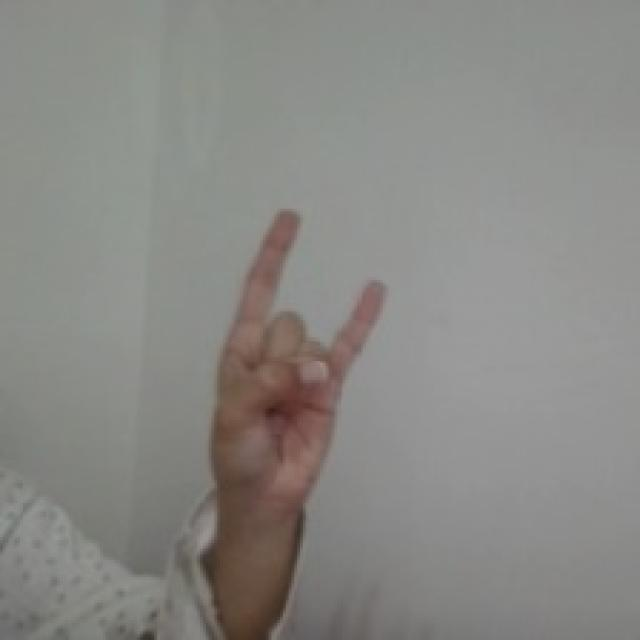No: (202, 198, 392, 510)
